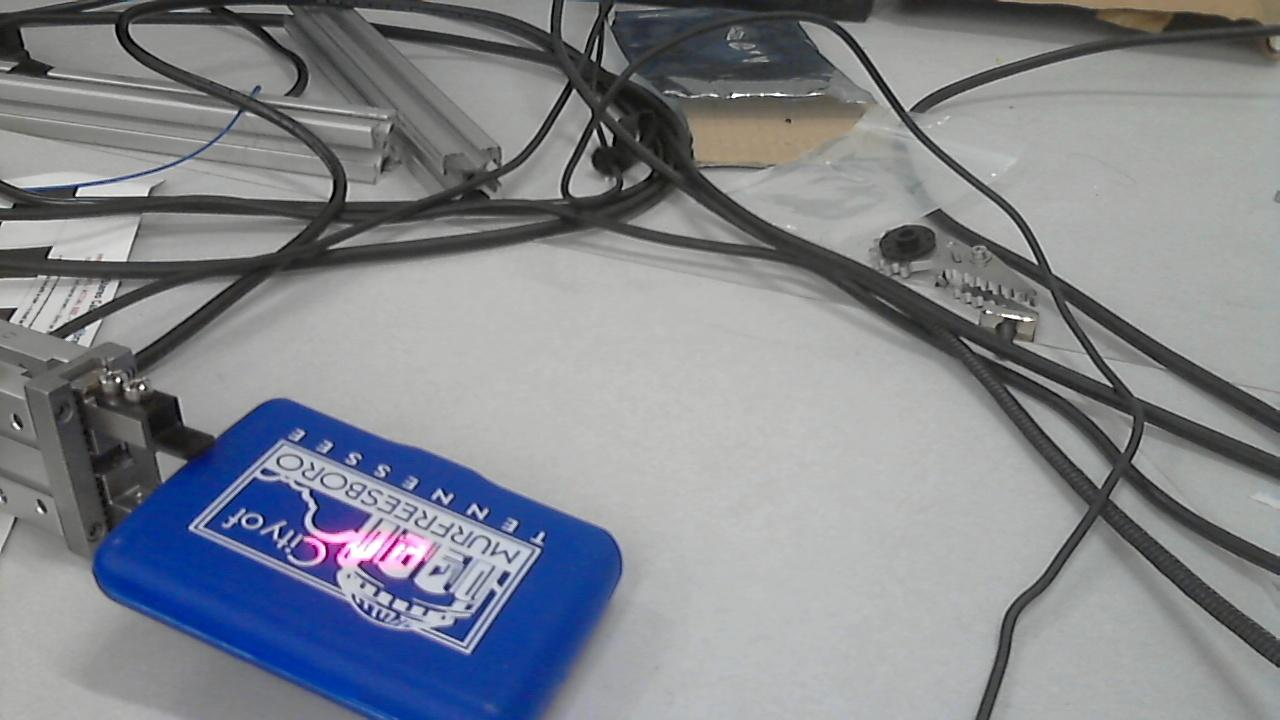Object precision screwdriver - Material Metal - Pdfname NoEr35VbQ7sR: (268, 488, 468, 576)
